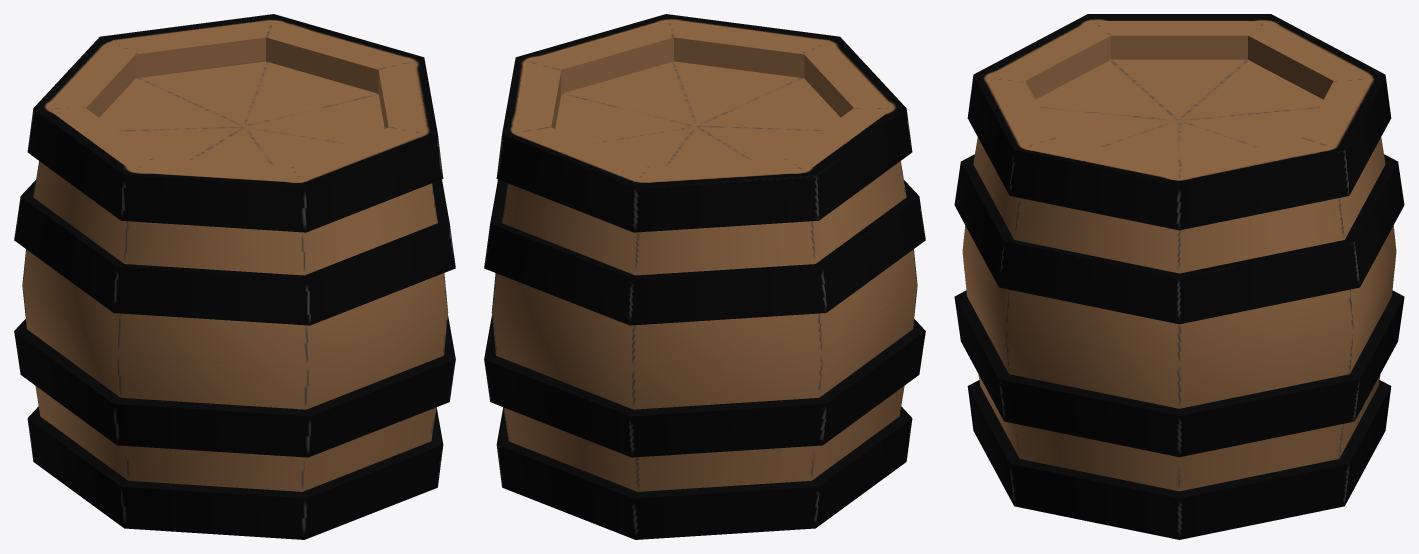
File: barrel.FBX
The picture shows the model from 3 angles, left to right: view 1: azimuth 30°, elevation 25°; view 2: azimuth 150°, elevation 25°; view 3: azimuth 270°, elevation 25°; orthographic projection.
Visible parts, largest first — view 1: Cylinder001; view 2: Cylinder001; view 3: Cylinder001.
Part boxes in pixels (x1=…): Cylinder001: x1=14, y1=14, x2=455, y2=539; Cylinder001: x1=484, y1=14, x2=925, y2=539; Cylinder001: x1=954, y1=14, x2=1404, y2=539.
Size of the model in its own units: 33.76 by 30.24 by 34.63.
